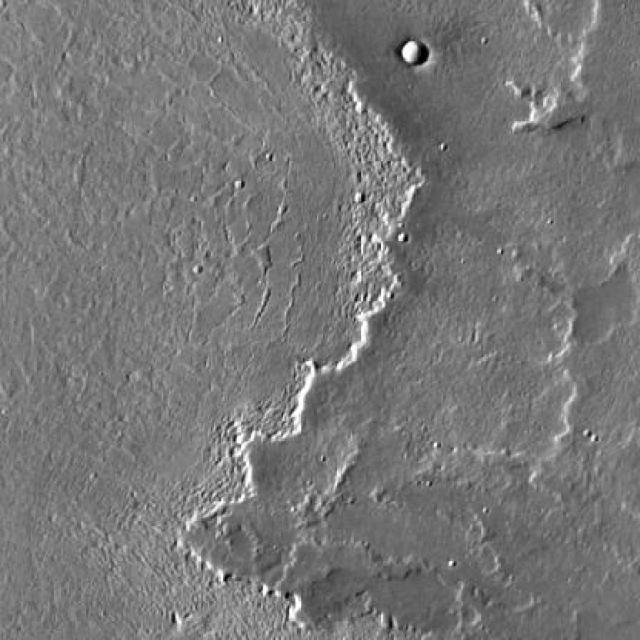crater: (379, 41, 407, 67)
